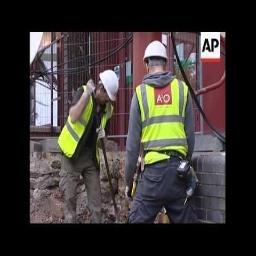helmet: (142, 40, 173, 67), (99, 70, 119, 106)
person: (123, 40, 200, 225), (63, 70, 119, 210)
vest: (135, 80, 190, 166), (62, 84, 109, 169)
